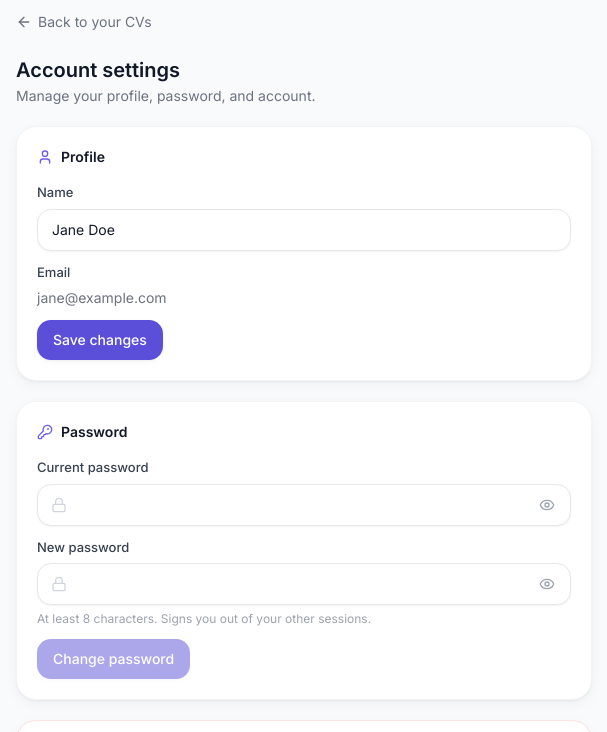
Scenario: AccountSettingsPage › profile › shows the server's error message instead of 'Saved' when the update fails
This screenshot has width=607, height=732.
Click the button "Save changes": (100, 340) [37,320,163,360]
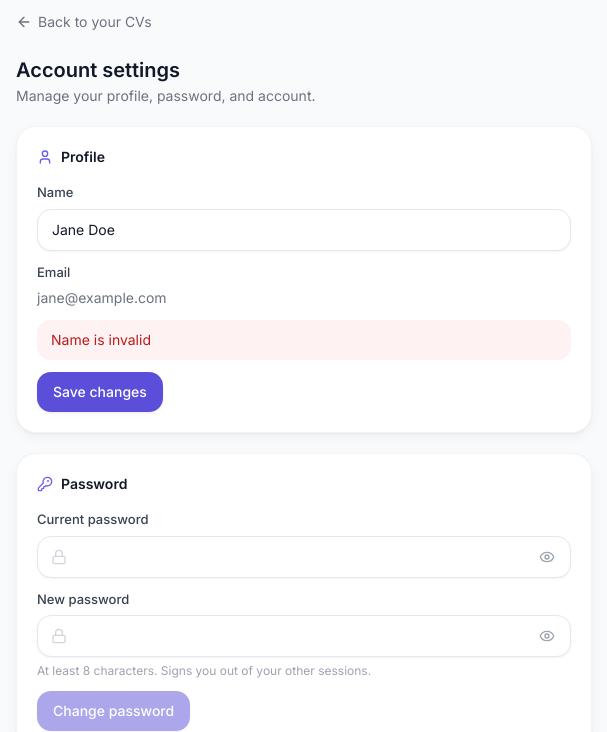
Expected: the text "Name is invalid" is shown, [37,320,571,360]
